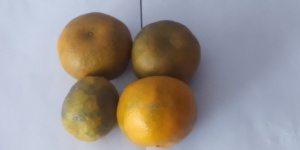BAD: (57, 11, 136, 83), (121, 73, 197, 146), (131, 20, 201, 83), (60, 76, 118, 144)
